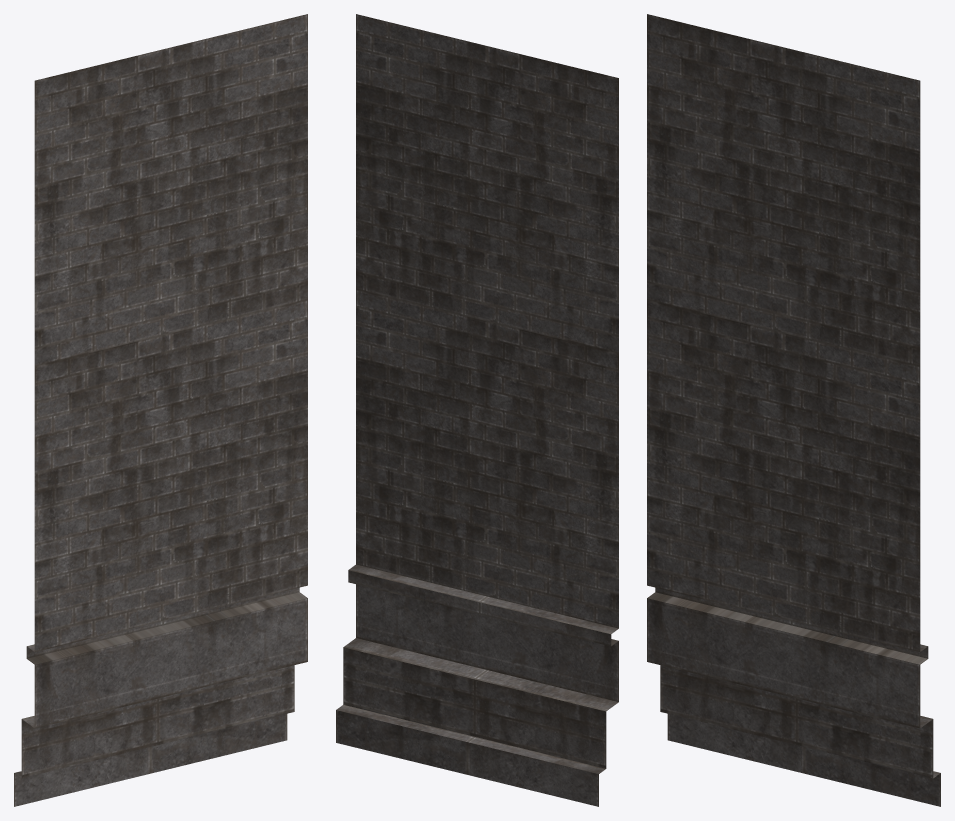
The model's file is Wall.fbx.
3 views of the same model, side by side, from view 1: azimuth 30°, elevation 25°; view 2: azimuth 150°, elevation 25°; view 3: azimuth 330°, elevation 25° (orthographic). The views are drawn at different scales.
Parts seen in each view (by area): view 1: Wall_Bricks.005, Wall_Bricks.006, WAll_Mold.003; view 2: Wall_Bricks.006, Wall_Bricks.005, WAll_Mold.003; view 3: Wall_Bricks.005, Wall_Bricks.006, WAll_Mold.003.
Part boxes in pixels (x1=…): Wall_Bricks.005: x1=34, y1=300, x2=307, y2=651; Wall_Bricks.006: x1=34, y1=14, x2=307, y2=366; WAll_Mold.003: x1=14, y1=587, x2=307, y2=806; Wall_Bricks.006: x1=356, y1=14, x2=618, y2=353; Wall_Bricks.005: x1=356, y1=289, x2=618, y2=628; WAll_Mold.003: x1=336, y1=564, x2=618, y2=806; Wall_Bricks.005: x1=647, y1=300, x2=920, y2=651; Wall_Bricks.006: x1=647, y1=14, x2=920, y2=366; WAll_Mold.003: x1=647, y1=587, x2=940, y2=806.
Size of the model in its own units: 4000 by 10379 by 526.
